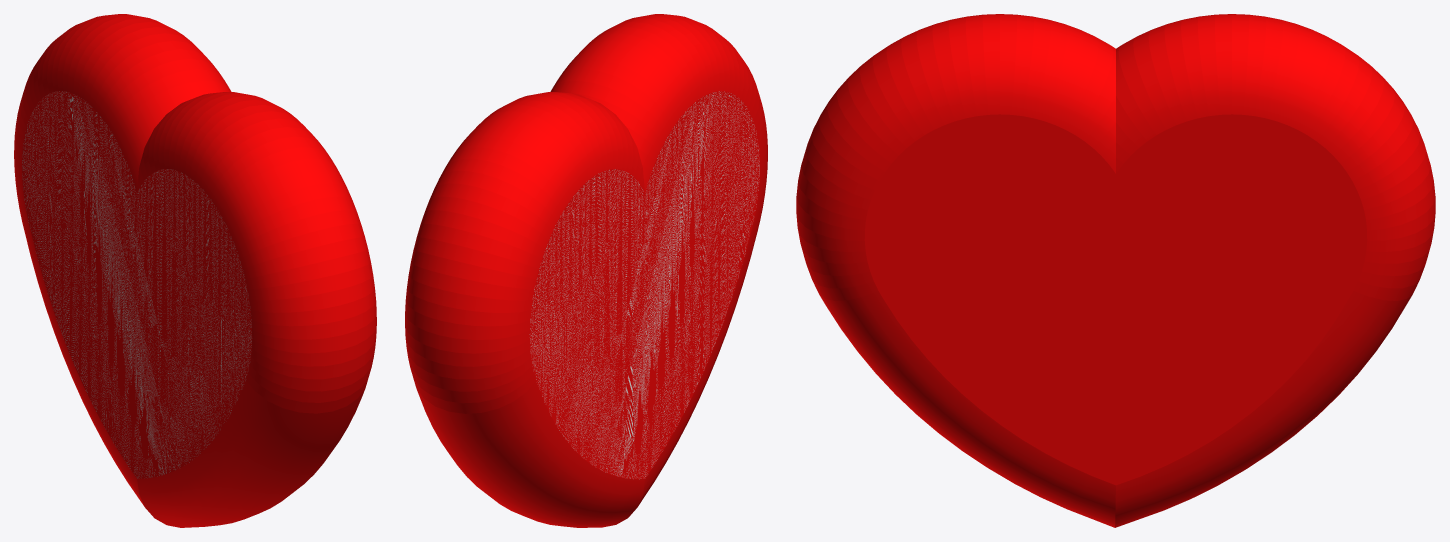
The model's file is Heart_other2_centered.dae.
3 renders of one model, left to right at view 1: azimuth 30°, elevation 25°; view 2: azimuth 150°, elevation 25°; view 3: azimuth 270°, elevation 25°, orthographic. The views are drawn at different scales.
Parts seen in each view (by area): view 1: SketchUp (×2); view 2: SketchUp (×2); view 3: SketchUp.
Boxes of the visible parts, x1=… form: SketchUp (×2): x1=14, y1=14, x2=376, y2=527; SketchUp (×2): x1=405, y1=14, x2=767, y2=527; SketchUp: x1=796, y1=14, x2=1435, y2=527.
Size of the model in its own units: 75.18 by 327 by 282.
